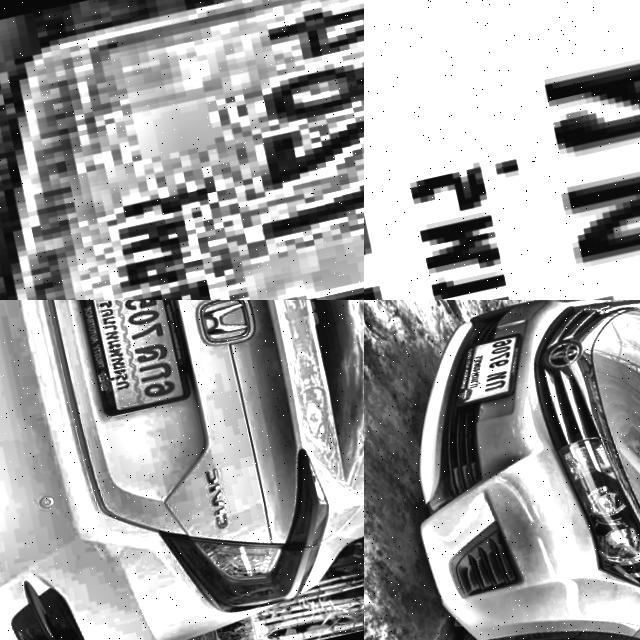license-plate: (0, 0, 364, 300), (364, 0, 640, 300), (71, 300, 194, 417), (445, 324, 548, 416)
